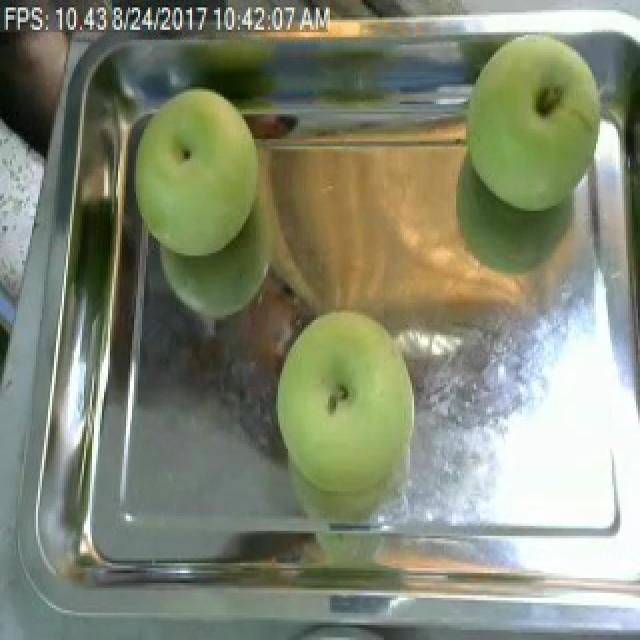50-_ripeness: (459, 27, 614, 223), (274, 303, 421, 500), (130, 82, 264, 268)
